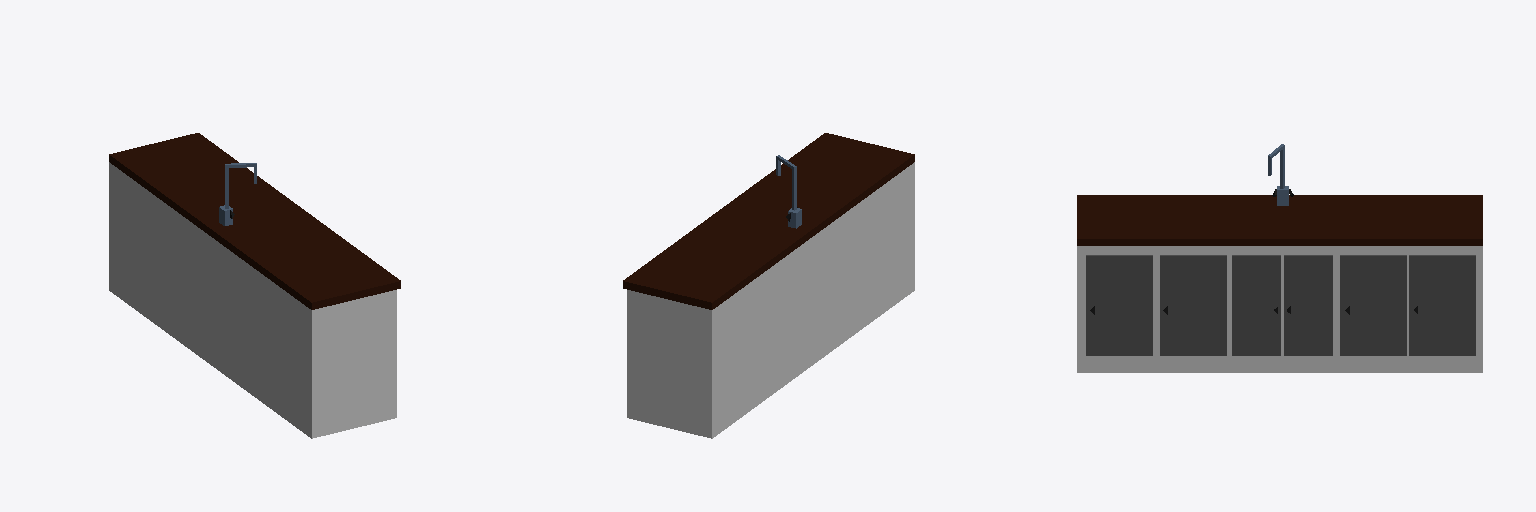
The model's file is kitchen_sinkblend.obj.
3 views of the same model, side by side, from view 1: azimuth 30°, elevation 25°; view 2: azimuth 150°, elevation 25°; view 3: azimuth 270°, elevation 25° (orthographic).
Parts seen in each view (by area): view 1: Cube_Cube.026; view 2: Cube_Cube.026; view 3: Cube_Cube.026.
Boxes of the visible parts, box(x1,y1,x2,y2) form: Cube_Cube.026: box(109, 133, 400, 438); Cube_Cube.026: box(623, 133, 914, 438); Cube_Cube.026: box(1077, 144, 1482, 372).
Bounding box in the file's own units: 0.6325 × 1.29 × 2.43.